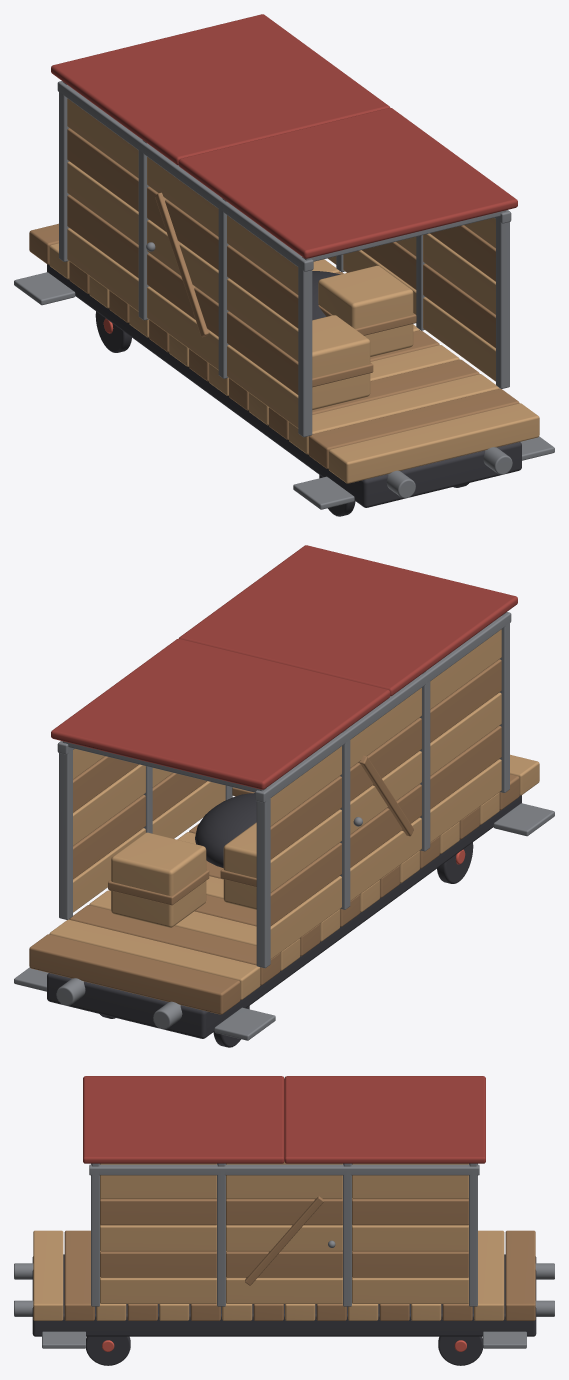
File: cargo_wagon.glb
3 views of the same model, one above another, from view 1: azimuth 30°, elevation 25°; view 2: azimuth 150°, elevation 25°; view 3: azimuth 270°, elevation 25° (orthographic). The views are drawn at different scales.
Visible parts, largest first — view 1: Cargo, Panel_metal_4, Panel_metal_5, Door_wood_0, Panel_wood_0, Panel_wood_1, Panel_wood_2, Door_wood_1, WagonWheel_0; view 2: Cargo, Panel_metal_5, Panel_metal_4, Panel_wood_1, Door_wood_0, Panel_wood_0, Panel_wood_3, Door_wood_1, WagonWheel_2; view 3: Cargo, Panel_metal_4, Panel_metal_5, Panel_wood_2, Panel_wood_3, Door_wood_1, WagonWheel_1, WagonWheel_3.
Part boxes in pixels (bbox=[...]): Cargo: bbox=[14, 81, 554, 509]; Panel_metal_4: bbox=[178, 107, 517, 258]; Panel_metal_5: bbox=[51, 14, 389, 165]; Door_wood_0: bbox=[146, 157, 218, 369]; Panel_wood_0: bbox=[227, 215, 298, 428]; Panel_wood_1: bbox=[67, 98, 138, 311]; Panel_wood_2: bbox=[423, 218, 495, 381]; Door_wood_1: bbox=[343, 237, 416, 314]; WagonWheel_0: bbox=[95, 311, 131, 352]; Cargo: bbox=[14, 612, 554, 1040]; Panel_metal_5: bbox=[51, 638, 390, 789]; Panel_metal_4: bbox=[179, 545, 517, 696]; Panel_wood_1: bbox=[270, 746, 341, 959]; Door_wood_0: bbox=[350, 688, 421, 900]; Panel_wood_0: bbox=[430, 629, 501, 842]; Panel_wood_3: bbox=[73, 749, 145, 912]; Door_wood_1: bbox=[152, 768, 225, 838]; WagonWheel_2: bbox=[437, 842, 473, 883]; Cargo: bbox=[14, 1163, 554, 1348]; Panel_metal_4: bbox=[83, 1076, 284, 1163]; Panel_metal_5: bbox=[284, 1076, 485, 1163]; Panel_wood_2: bbox=[100, 1175, 216, 1303]; Panel_wood_3: bbox=[352, 1175, 468, 1303]; Door_wood_1: bbox=[226, 1175, 342, 1303]; WagonWheel_1: bbox=[438, 1336, 482, 1365]; WagonWheel_3: bbox=[86, 1336, 130, 1365].
Bounding box in the file's own units: 3.4 × 3.95 × 8.59.
